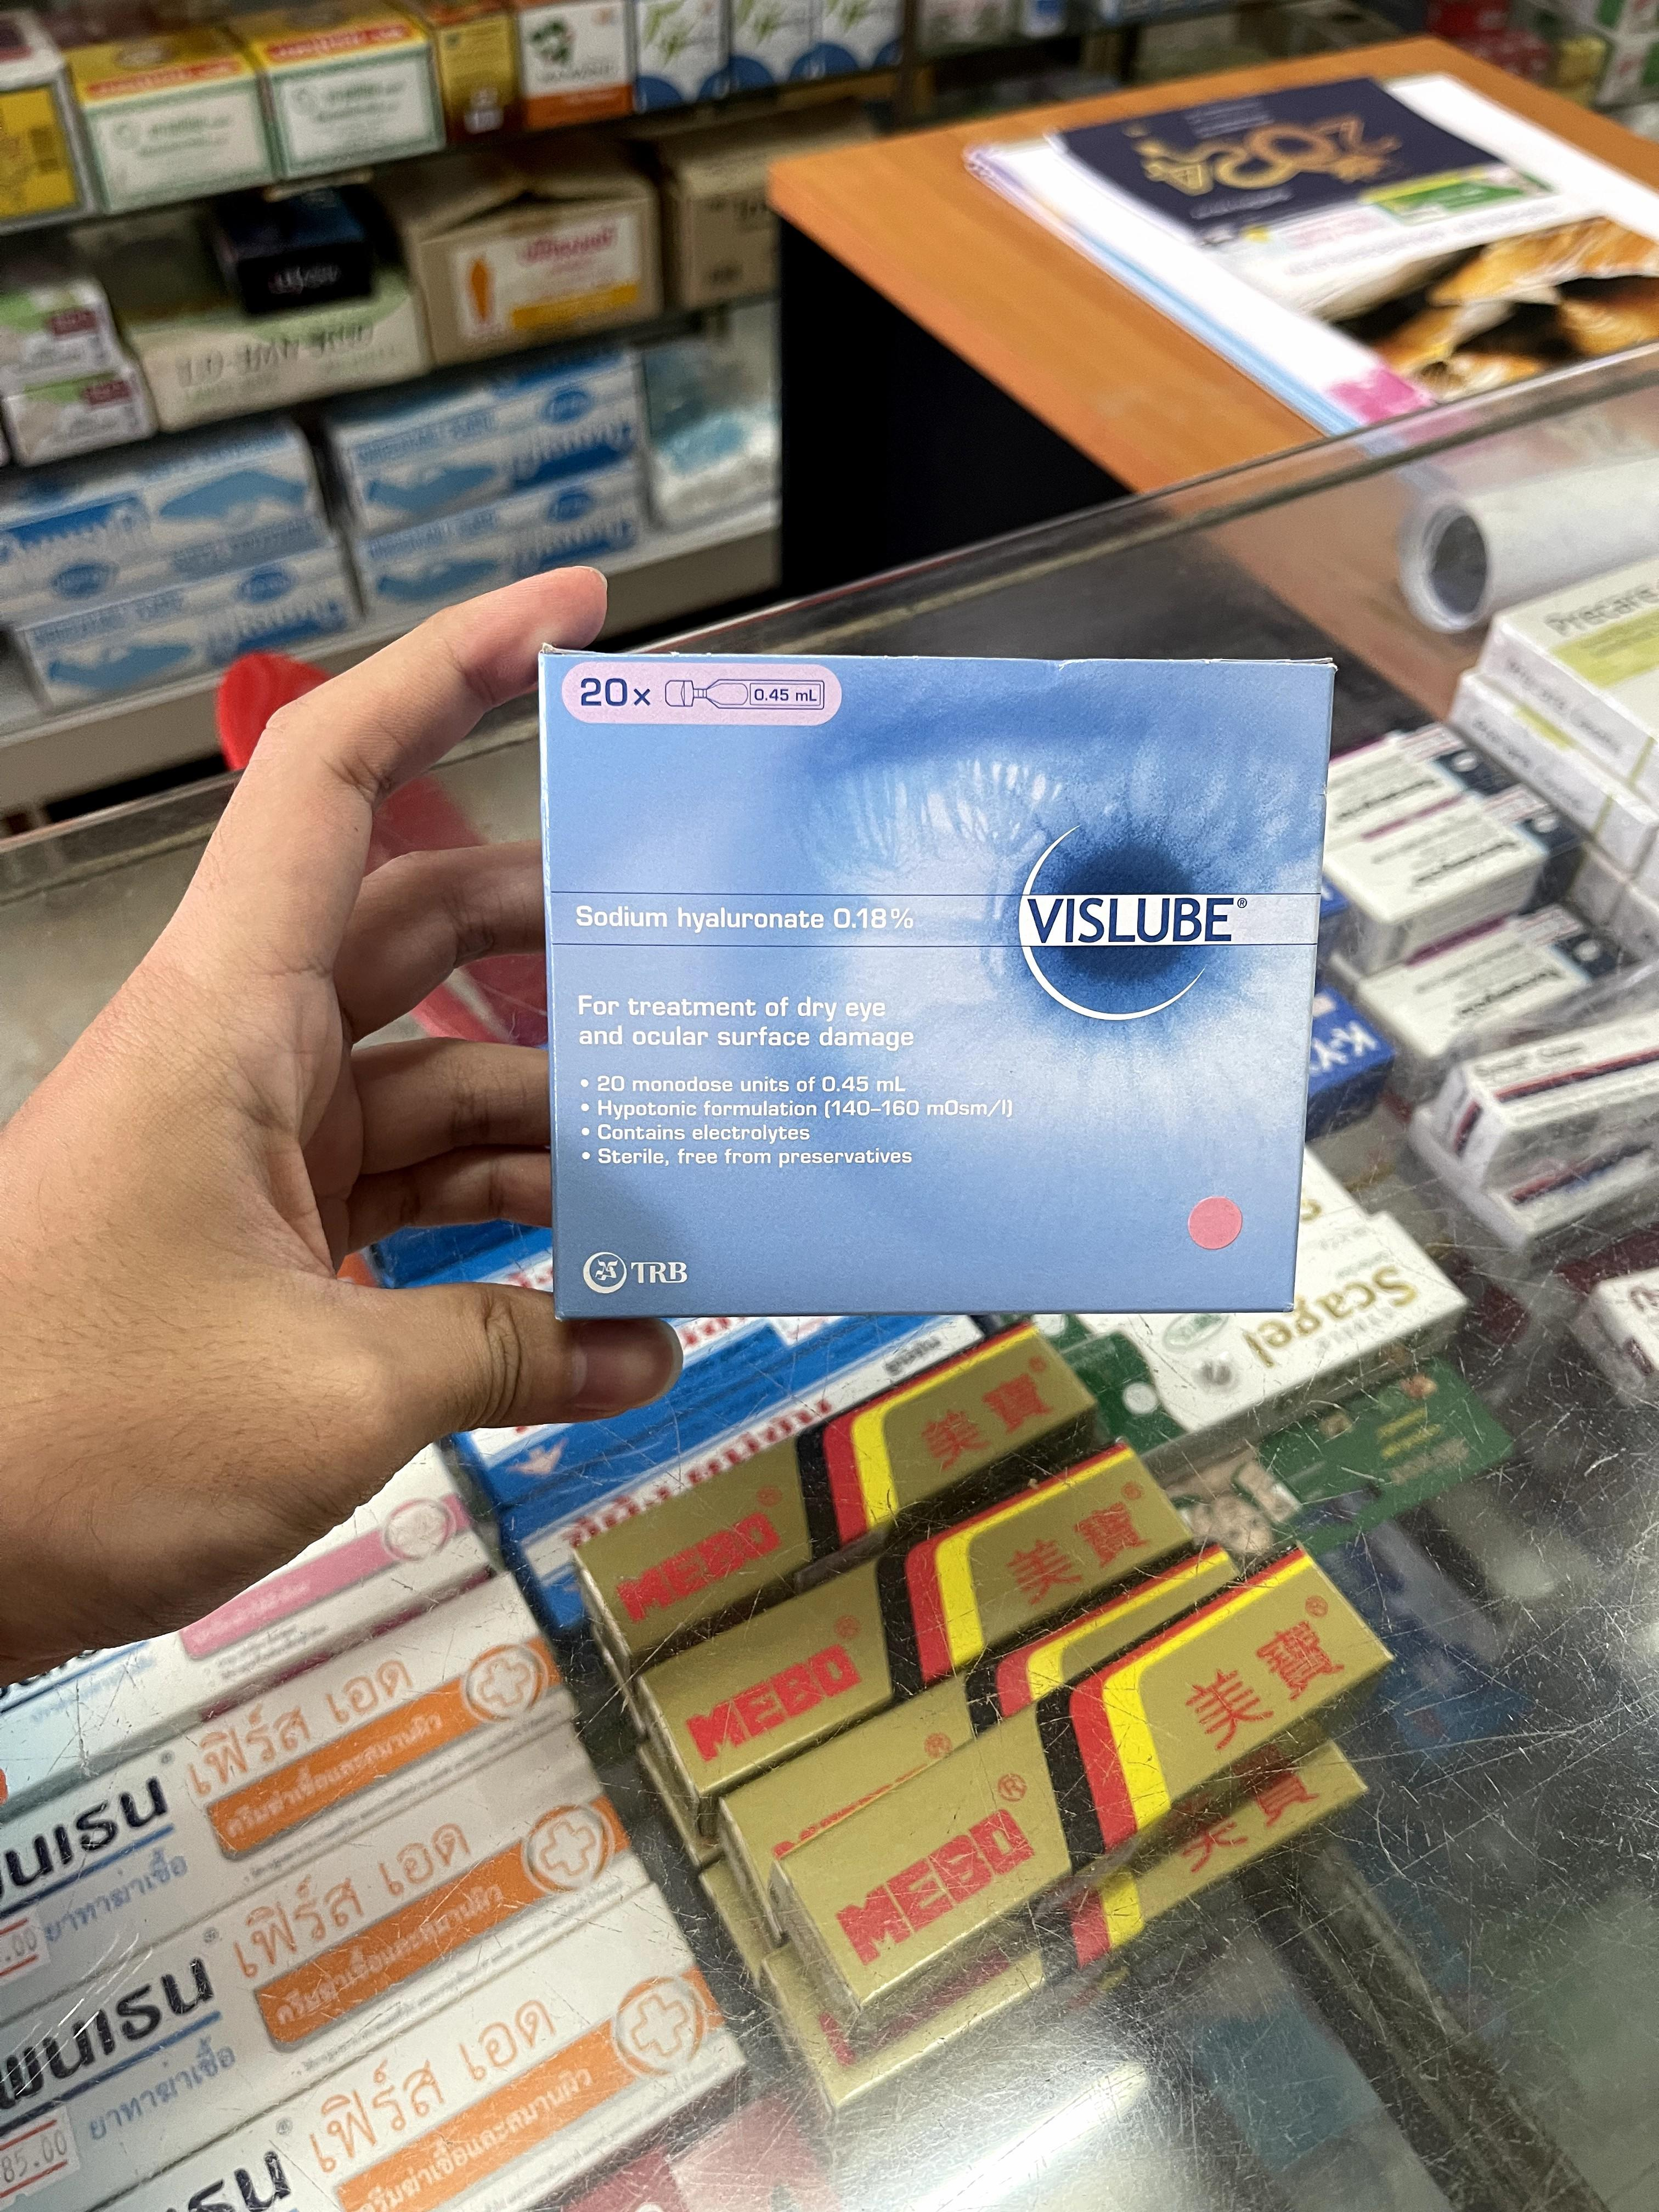Vislube20: (540, 650, 1330, 1317)
